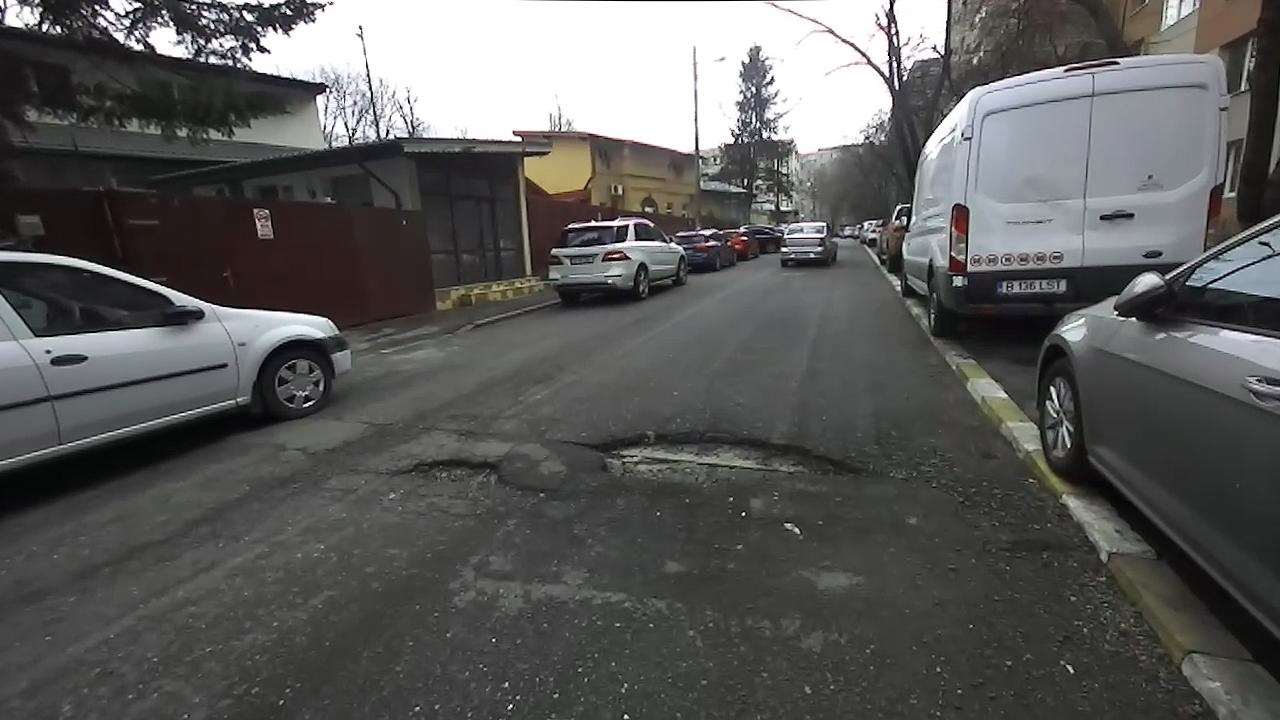pothole: (587, 423, 875, 493), (393, 452, 521, 499)
